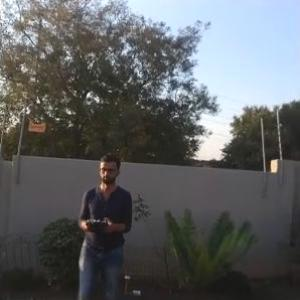follow: (72, 149, 135, 299)
